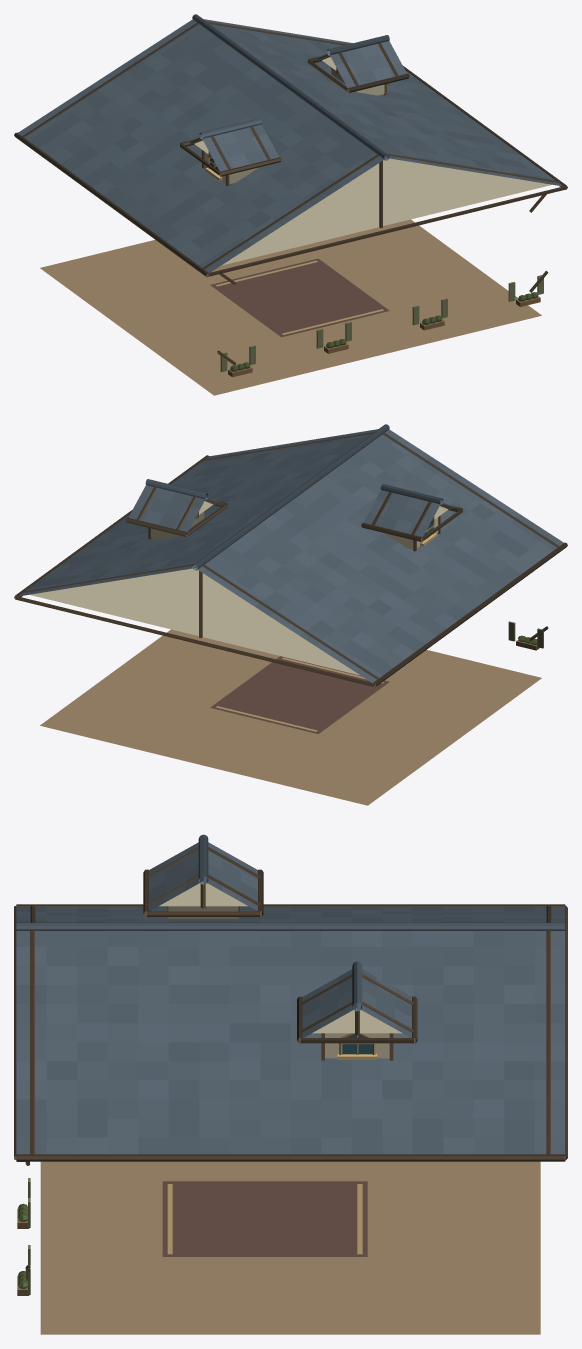
3 renders of one model, top to bottom at view 1: azimuth 30°, elevation 25°; view 2: azimuth 150°, elevation 25°; view 3: azimuth 270°, elevation 25°, orthographic. The views are drawn at different scales.
Parts seen in each view (by area): view 1: 321bd4f2efd1bf8697117d68e12db7343373a1ae9bb434d8531c9dade21e; view 2: 321bd4f2efd1bf8697117d68e12db7343373a1ae9bb434d8531c9dade21e; view 3: 321bd4f2efd1bf8697117d68e12db7343373a1ae9bb434d8531c9dade21e.
Part boxes in pixels (box(x1,y1,x2,y2)): 321bd4f2efd1bf8697117d68e12db7343373a1ae9bb434d8531c9dade21e: box(14, 14, 567, 395); 321bd4f2efd1bf8697117d68e12db7343373a1ae9bb434d8531c9dade21e: box(14, 424, 567, 805); 321bd4f2efd1bf8697117d68e12db7343373a1ae9bb434d8531c9dade21e: box(14, 834, 567, 1334).
Bounding box in the file's own units: 14.02 × 7.78 × 12.97.
6 materials, 1 textured.
